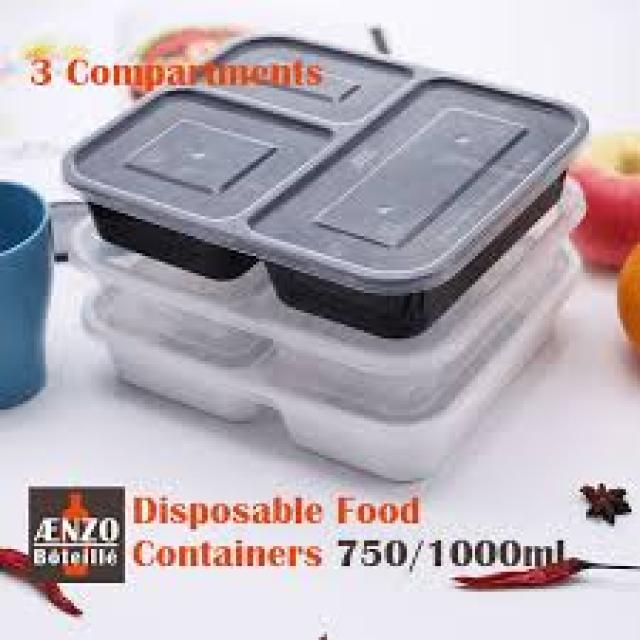disposable: (72, 9, 588, 329)
